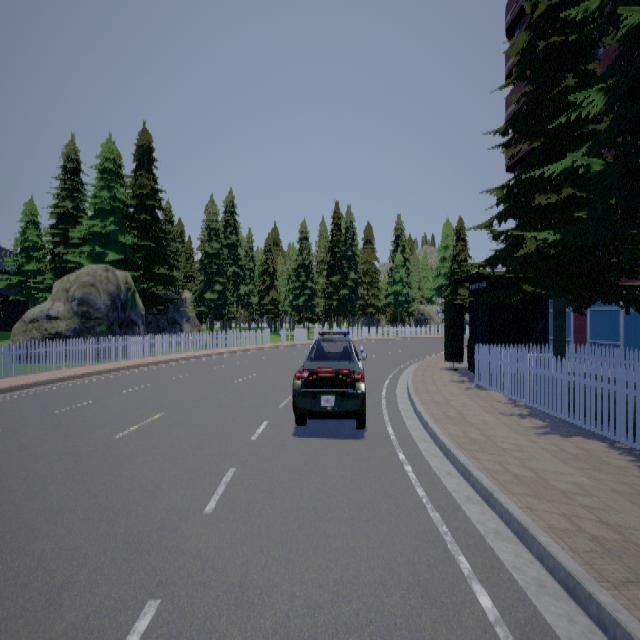vehicle: (291, 330, 366, 428)
